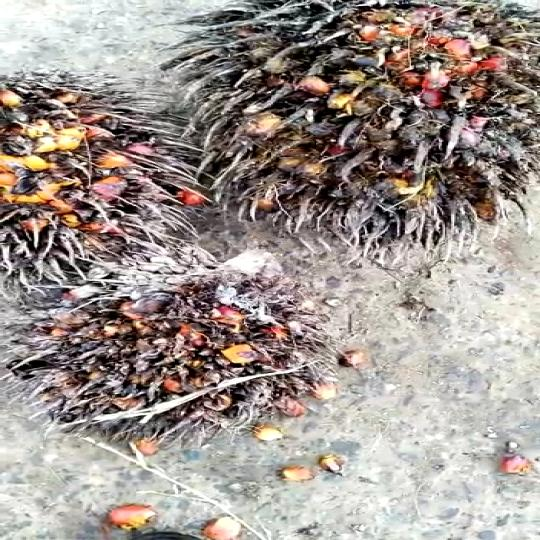terlalu masak: (142, 0, 540, 226), (0, 277, 340, 431)
